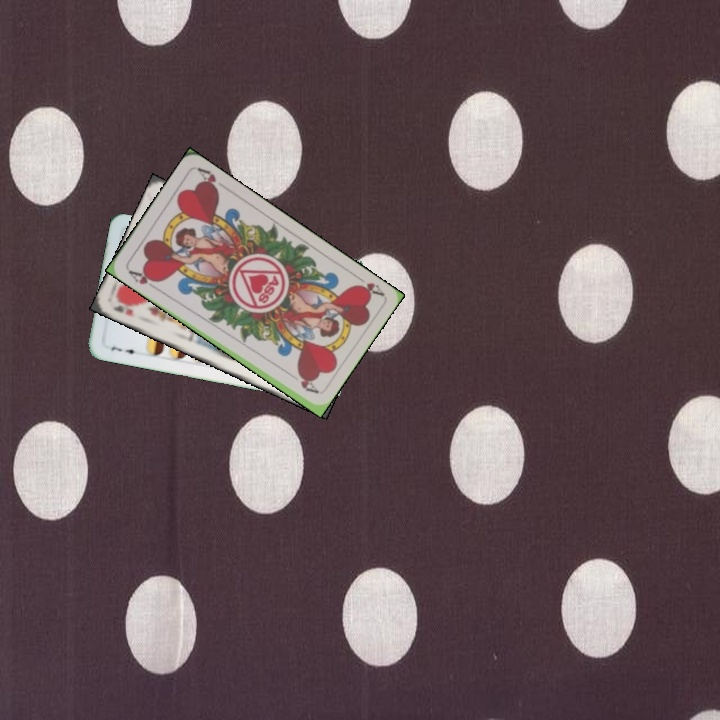E7: (106, 342, 141, 357)
HA: (349, 270, 386, 299), (124, 266, 161, 293)
HK: (109, 301, 138, 319)
